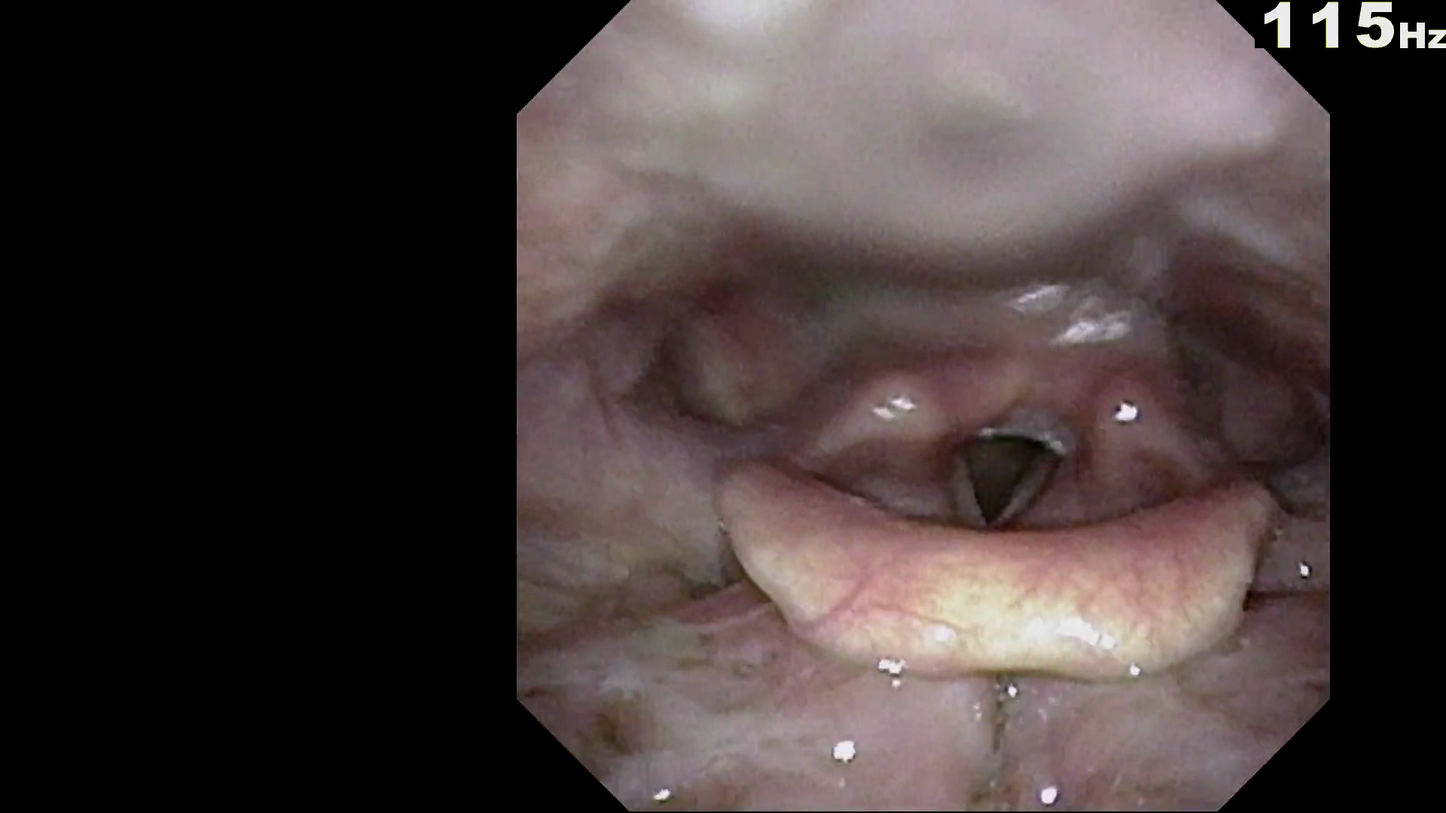epiglottis: (696, 452, 1312, 698)
trachea: (931, 426, 1061, 499)
